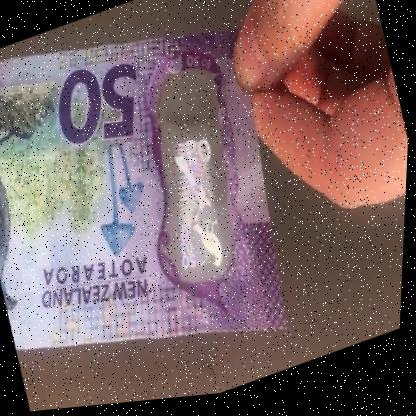50B: (140, 83, 263, 291)
